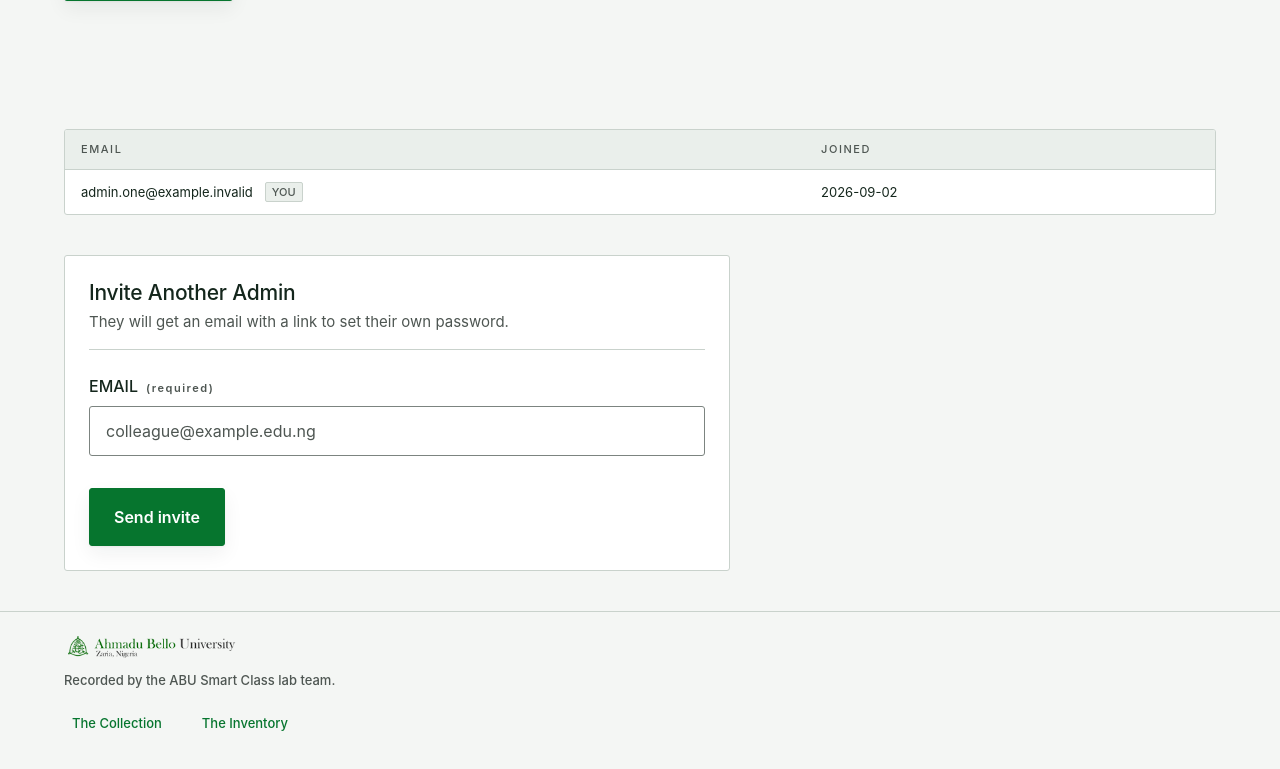
Test: app/admin/admins/page (S-008) › renders caution banner when invite delivery fails with 502
(page scrolled)
expect the text "admin.one@example.invalid" is shown: met, box [81,183,253,201]
Type "fail@example.invalid" into the field with placeholder "colleague@example.edu.ng" at x=397, y=431, box [89,406,705,456]
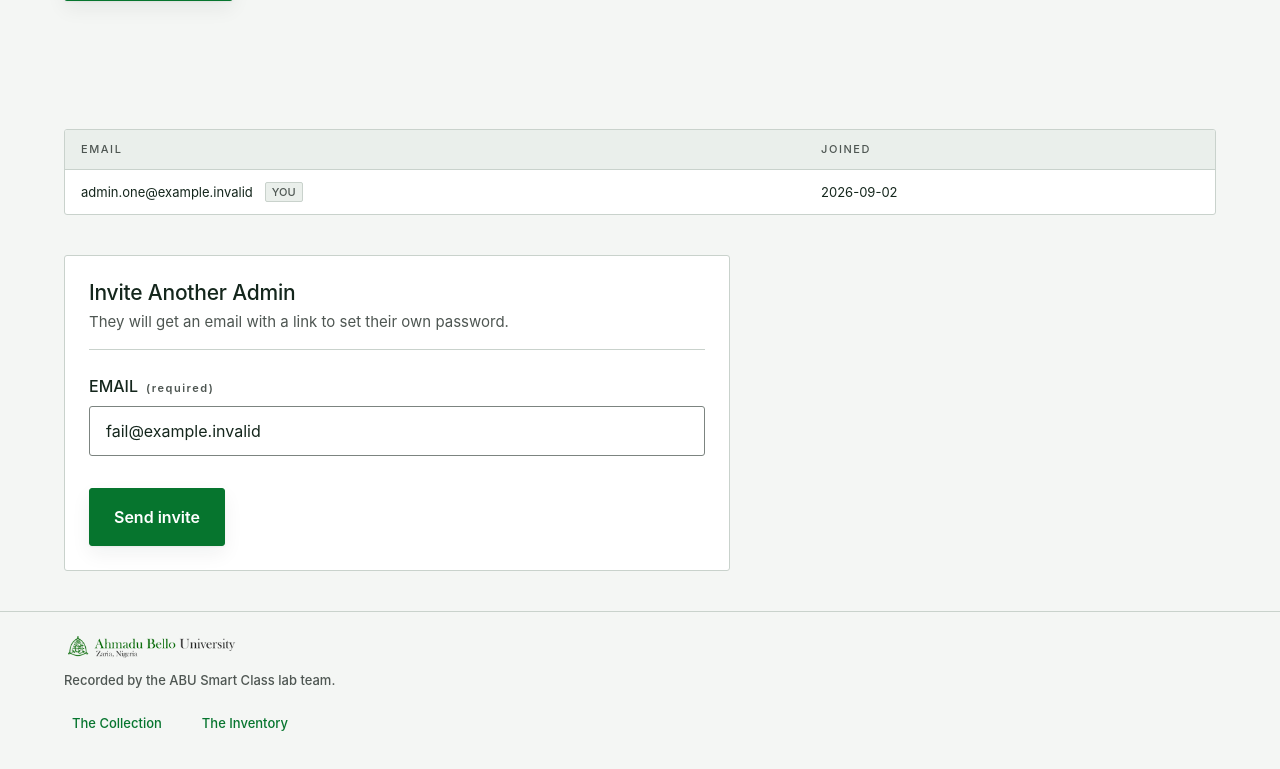
Click the button "Send invite" at x=157, y=517, box [89,488,225,546]
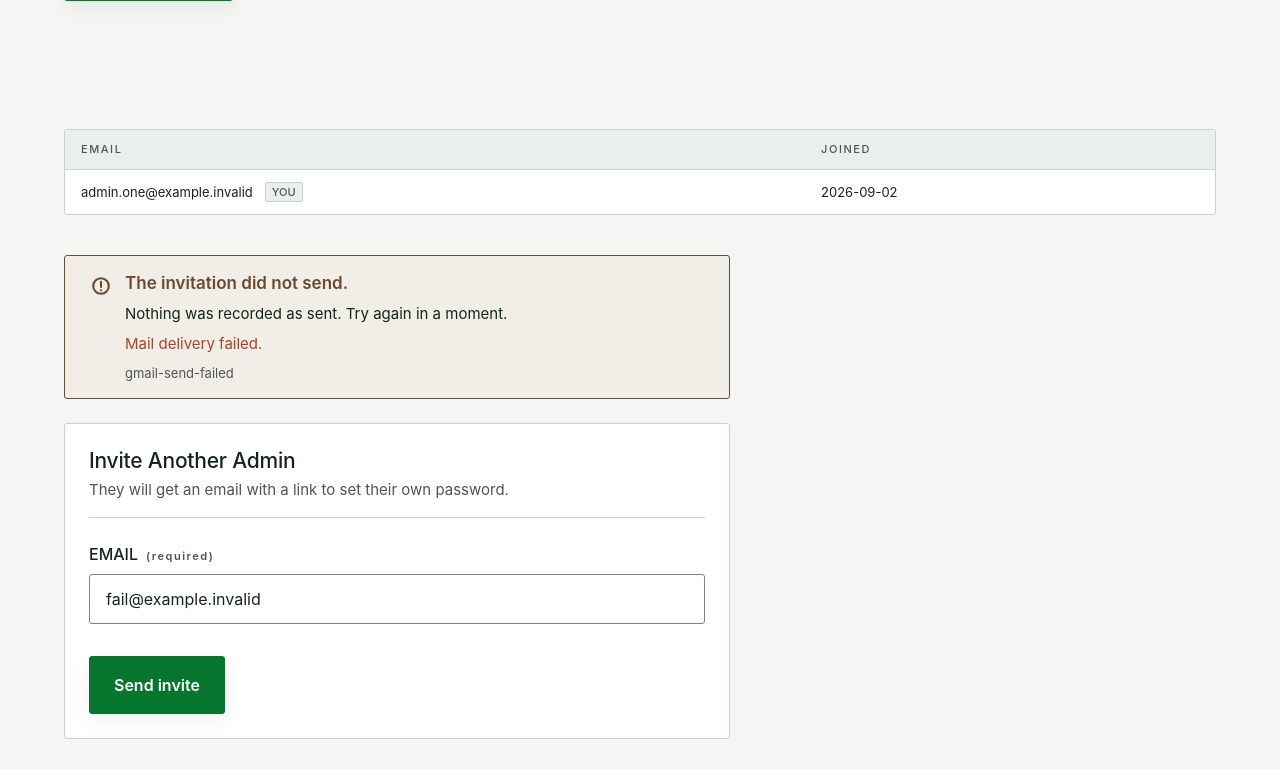
expect the heading "The invitation did not send." is shown: met, box [125,273,348,293]
expect the text "gmail-send-failed" is shown: met, box [125,364,234,380]
expect the text "Mail delivery failed." is shown: met, box [125,334,262,353]
